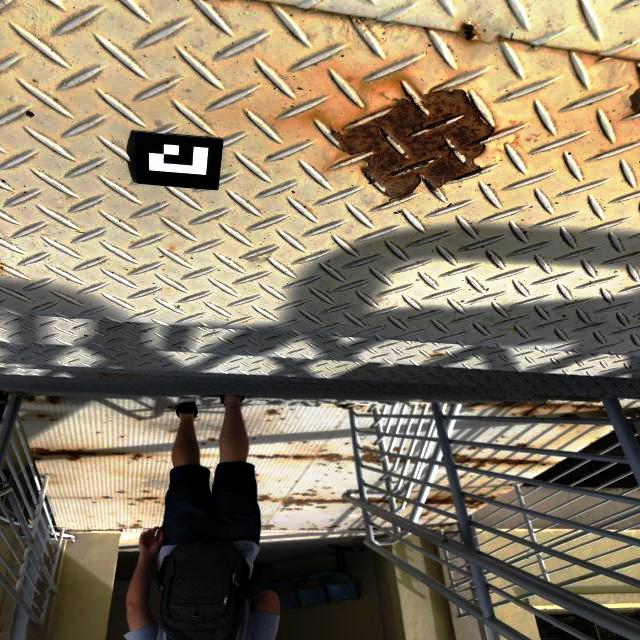Corrosion: (330, 89, 495, 198), (462, 402, 608, 418), (452, 453, 552, 469), (30, 447, 97, 462), (247, 453, 355, 462), (281, 496, 349, 507), (458, 22, 480, 43), (361, 453, 382, 466), (425, 495, 454, 504), (630, 89, 640, 112), (464, 499, 485, 509), (302, 488, 317, 497), (135, 496, 157, 502), (266, 409, 281, 416), (368, 498, 389, 503), (299, 526, 322, 530), (257, 495, 272, 501), (46, 397, 60, 403), (131, 454, 143, 460), (486, 495, 497, 501), (261, 525, 274, 530), (389, 456, 396, 464), (351, 405, 365, 409), (129, 524, 143, 528), (431, 354, 444, 358), (280, 507, 293, 511), (24, 397, 34, 402), (325, 525, 340, 528), (114, 452, 128, 455), (468, 446, 477, 450), (271, 499, 280, 503), (516, 444, 527, 447), (170, 429, 178, 433), (117, 490, 125, 494), (37, 414, 45, 418), (393, 447, 399, 452), (316, 506, 326, 509), (418, 404, 424, 409), (101, 496, 111, 499), (350, 528, 364, 530), (410, 460, 416, 464), (400, 459, 406, 463), (477, 493, 485, 496), (396, 499, 402, 503), (439, 525, 445, 529), (208, 438, 216, 441), (421, 514, 428, 517), (428, 406, 432, 411), (142, 491, 152, 493), (137, 418, 142, 422), (364, 446, 370, 449), (146, 456, 152, 459), (167, 406, 173, 409), (154, 501, 160, 504), (294, 508, 302, 510), (279, 528, 287, 530), (441, 457, 444, 462), (408, 405, 413, 408), (447, 404, 452, 407), (293, 493, 299, 495), (429, 518, 433, 521), (460, 476, 464, 479), (202, 442, 206, 445), (49, 419, 53, 422), (138, 520, 142, 523), (280, 418, 285, 420), (130, 504, 135, 506), (373, 527, 376, 530), (403, 448, 407, 450), (255, 474, 259, 476), (487, 476, 491, 478), (252, 438, 256, 440), (380, 409, 383, 411), (267, 420, 272, 421), (428, 458, 430, 459), (374, 449, 376, 450)
